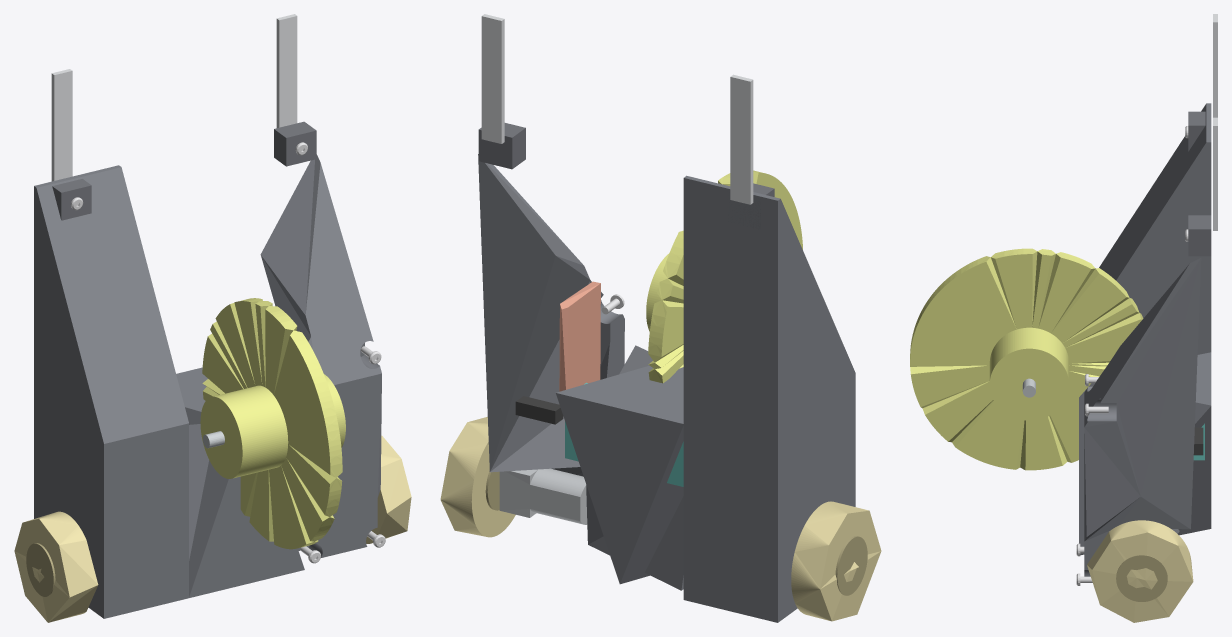
The model's file is delta_v.glb.
The picture shows the model from 3 angles, left to right: view 1: azimuth 30°, elevation 25°; view 2: azimuth 150°, elevation 25°; view 3: azimuth 270°, elevation 25°; orthographic projection. The views are drawn at different scales.
Parts seen in each view (by area): view 1: pod_r, weapon, pod_l, bridge, wheel_r0, wheel_l0, fork_1, fork_0, dt_mount_fork_1, dt_mount_fork_0, dt_hub_wheel_r0; view 2: pod_r, pod_l, bridge, wheel_r0, weapon, wheel_l0, dm_wheel_l0, el_esc, fork_0, fork_1, dt_mount_fork_1, dt_hub_wheel_r0 (+2 smaller); view 3: weapon, pod_l, pod_r, wheel_l0, bridge, dt_hub_wheel_l0, dt_mount_fork_1, fork_1, fork_0, dt_mount_fork_0.
Boxes of the visible parts, x1,y1,x2,y2 form: pod_r: (34,165,188,618); weapon: (200,298,345,549); pod_l: (260,154,381,557); bridge: (176,367,304,597); wheel_r0: (14,511,98,622); wheel_l0: (366,435,411,543); fork_1: (276,14,297,127); fork_0: (51,69,72,181); dt_mount_fork_1: (274,121,316,166); dt_mount_fork_0: (52,179,91,220); dt_hub_wheel_r0: (26,543,55,596); pod_r: (683,175,855,622); pod_l: (478,154,624,476); bridge: (556,345,683,590); wheel_r0: (791,501,881,621); weapon: (646,170,802,383); wheel_l0: (440,417,515,537); dm_wheel_l0: (499,468,587,524); el_esc: (559,281,600,391); fork_0: (730,74,753,204); fork_1: (481,14,504,143); dt_mount_fork_1: (478,123,525,169); dt_hub_wheel_r0: (835,536,867,595); weapon: (910,248,1143,470); pod_l: (1084,258,1201,576); pod_r: (1099,103,1211,354); wheel_l0: (1087,520,1193,622); bridge: (1079,352,1211,555); dt_hub_wheel_l0: (1116,555,1167,601); dt_mount_fork_1: (1188,215,1211,256); fork_1: (1213,117,1217,230); fork_0: (1213,14,1217,117); dt_mount_fork_0: (1188,111,1205,151).
Size of the model in its own units: 115 by 158 by 93.01.
